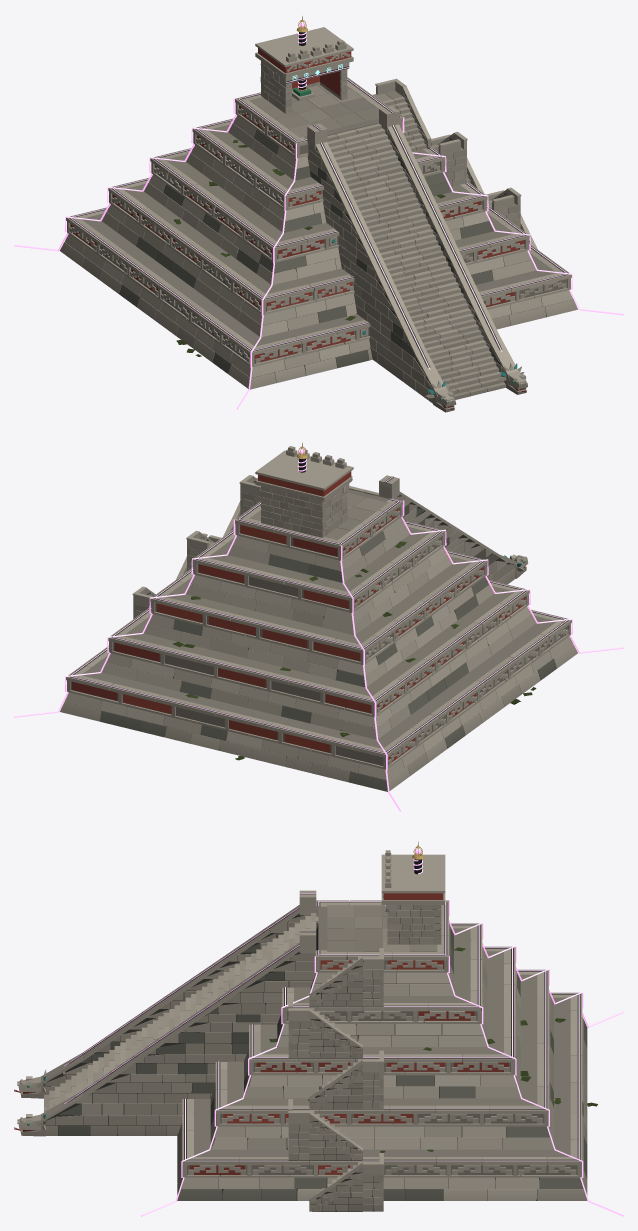
Rendered from zr_step_pyramid.glb.
The picture shows the model from 3 angles, top to bottom: view 1: azimuth 30°, elevation 25°; view 2: azimuth 150°, elevation 25°; view 3: azimuth 270°, elevation 25°; orthographic projection. The views are drawn at different scales.
Visible parts, largest first — view 1: zr_step_pyramid; view 2: zr_step_pyramid; view 3: zr_step_pyramid.
Part boxes in pixels (<box>): zr_step_pyramid: <box>14,16,623,412</box>; zr_step_pyramid: <box>14,442,623,811</box>; zr_step_pyramid: <box>14,841,623,1216</box>.
Size of what is drawn, in the model's own units: 37.7 by 23.64 by 47.58.
